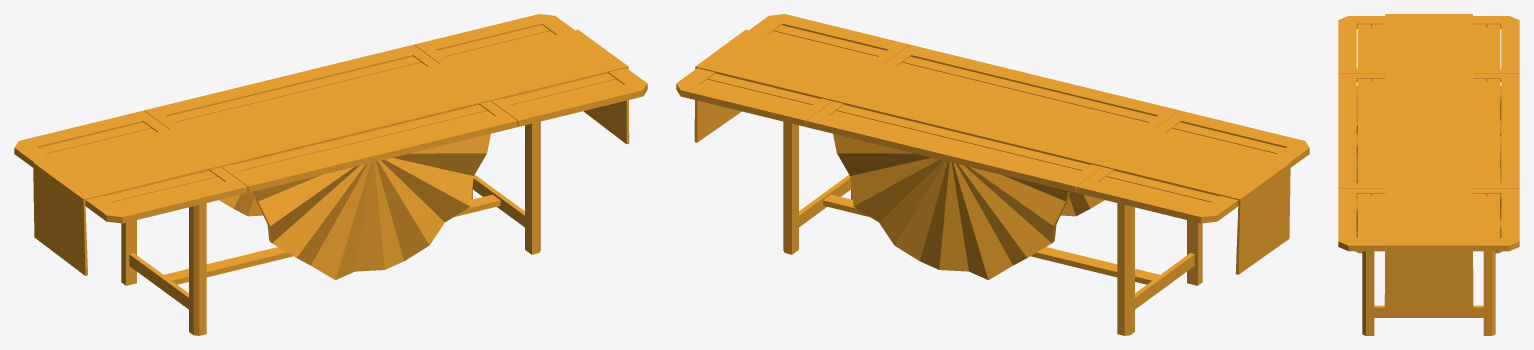
Rendered from SM_Table_Garden_Long_4july.fbx.
The picture shows the model from 3 angles, left to right: view 1: azimuth 30°, elevation 25°; view 2: azimuth 150°, elevation 25°; view 3: azimuth 270°, elevation 25°; orthographic projection. The views are drawn at different scales.
Parts seen in each view (by area): view 1: table-garden-long-4july; view 2: table-garden-long-4july; view 3: table-garden-long-4july.
Part boxes in pixels (x1,y1,x2,y2): table-garden-long-4july: (14,14,647,335); table-garden-long-4july: (676,14,1309,335); table-garden-long-4july: (1338,14,1519,335).
Size of the model in its own units: 3.02 by 0.8058 by 1.
